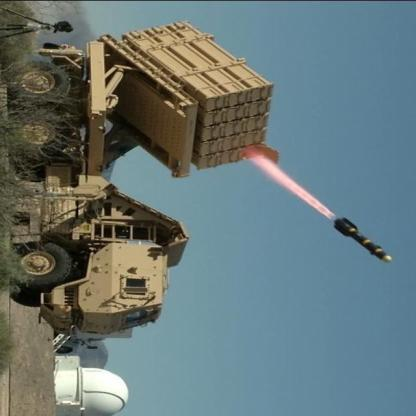MIL_TBM: (327, 216, 395, 264)
